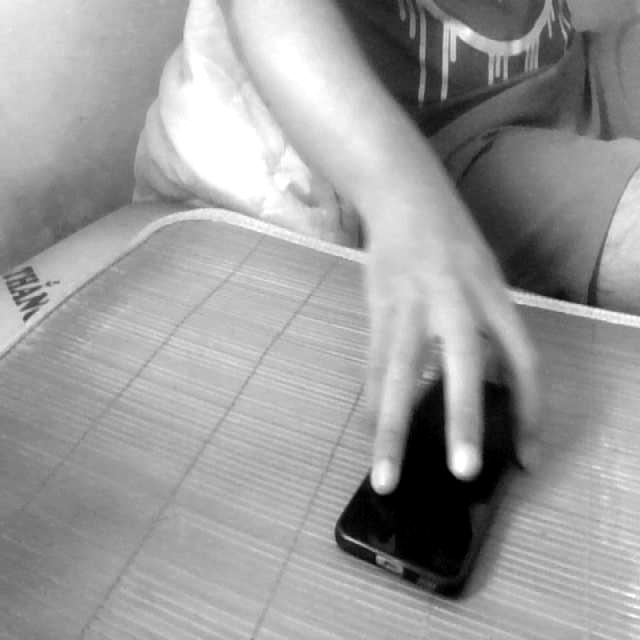phone: (330, 319, 542, 604)
